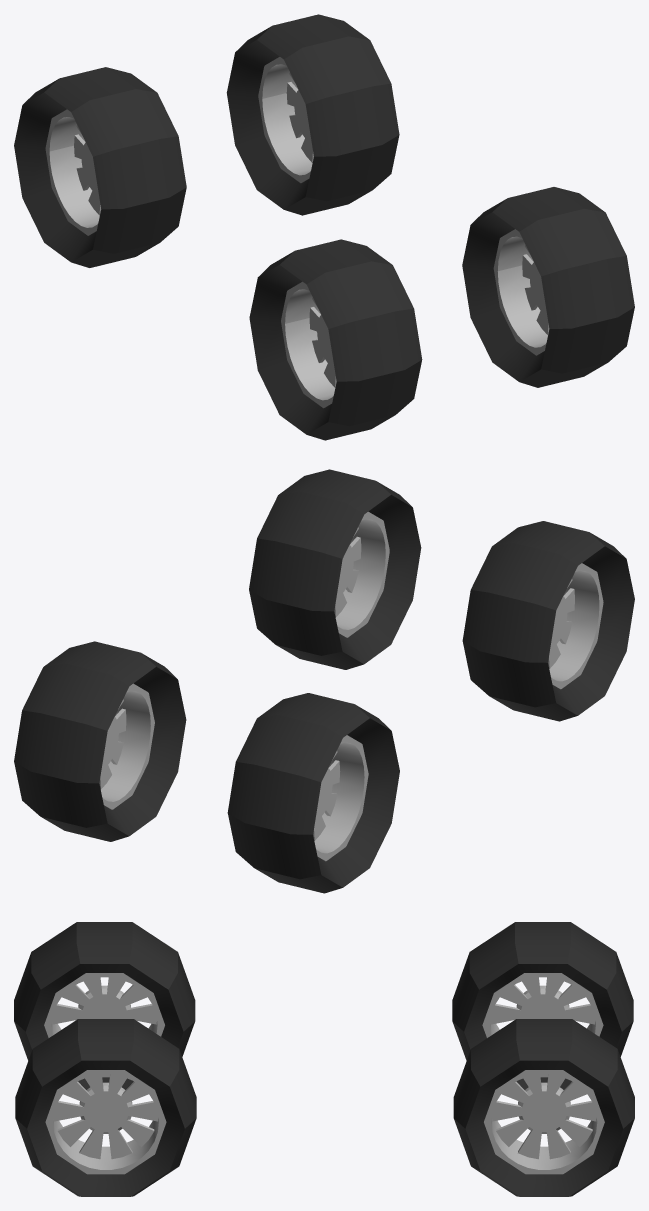
File: Rodas.fbx
3 views of the same model, one above another, from view 1: azimuth 30°, elevation 25°; view 2: azimuth 150°, elevation 25°; view 3: azimuth 270°, elevation 25° (orthographic). The views are drawn at different scales.
Visible parts, largest first — view 1: tras 1, frente 2, Tras 2, frente 1; view 2: Tras 2, frente 1, frente 2, tras 1; view 3: frente 1, tras 1, frente 2, Tras 2.
Boxes of the visible parts, left/top/right/bottom form: tras 1: left=226, top=14, right=399, bottom=215; frente 2: left=249, top=239, right=422, bottom=440; Tras 2: left=14, top=67, right=186, bottom=267; frente 1: left=462, top=187, right=634, bottom=387; Tras 2: left=227, top=693, right=399, bottom=893; frente 1: left=249, top=469, right=421, bottom=669; frente 2: left=462, top=521, right=634, bottom=721; tras 1: left=14, top=641, right=186, bottom=841; frente 1: left=15, top=1019, right=196, bottom=1196; tras 1: left=453, top=1019, right=634, bottom=1196; frente 2: left=14, top=922, right=195, bottom=1089; Tras 2: left=452, top=922, right=633, bottom=1089.
Size of the model in its own units: 191 by 102 by 367.
4 materials, 4 textured.
